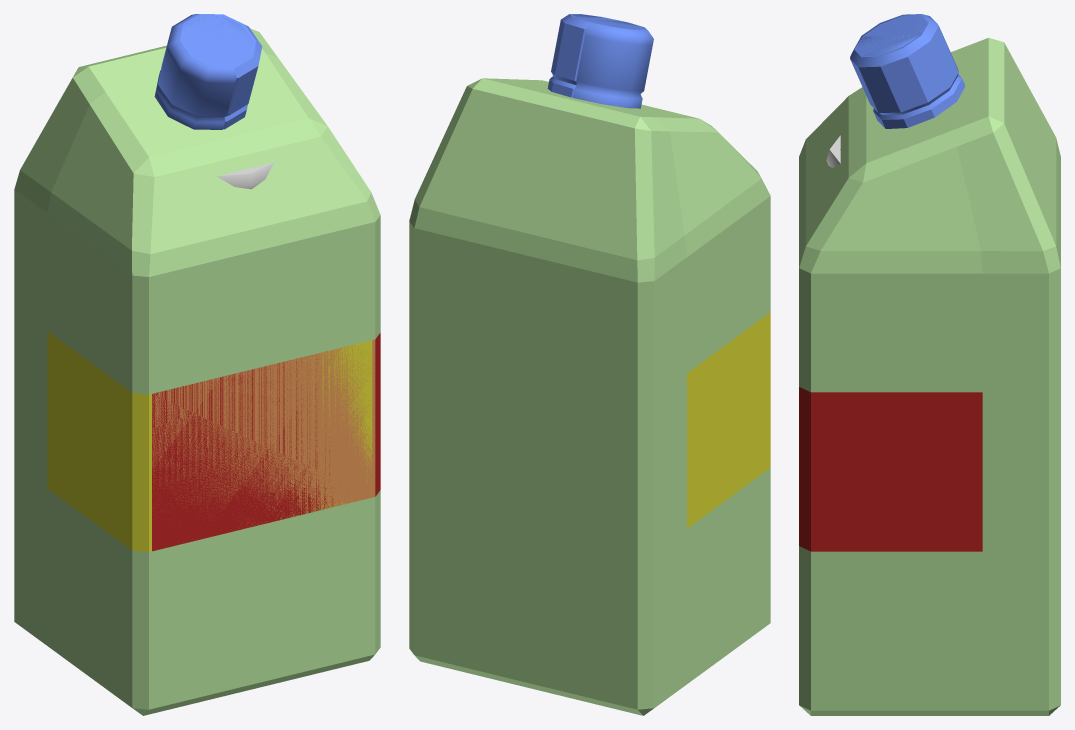
File: Bootles.fbx
3 views of the same model, side by side, from view 1: azimuth 30°, elevation 25°; view 2: azimuth 150°, elevation 25°; view 3: azimuth 270°, elevation 25° (orthographic). The views are drawn at different scales.
Visible parts, largest first — view 1: lemon_bottle, orange_bottle, apple_bottle, lemon_bottle_2; view 2: orange_bottle, apple_bottle, lemon_bottle; view 3: apple_bottle, lemon_bottle, orange_bottle.
Part boxes in pixels (box(x1,y1,x2,y2)): lemon_bottle: box(14, 14, 372, 715); orange_bottle: box(102, 14, 375, 714); apple_bottle: box(90, 14, 380, 668); lemon_bottle_2: box(217, 162, 274, 189); orange_bottle: box(414, 14, 690, 715); apple_bottle: box(409, 14, 641, 693); lemon_bottle: box(476, 14, 770, 715); apple_bottle: box(799, 16, 1060, 715); lemon_bottle: box(799, 14, 1060, 266); orange_bottle: box(800, 15, 1060, 267).
Bounding box in the file's own units: 222 × 538 × 200.
